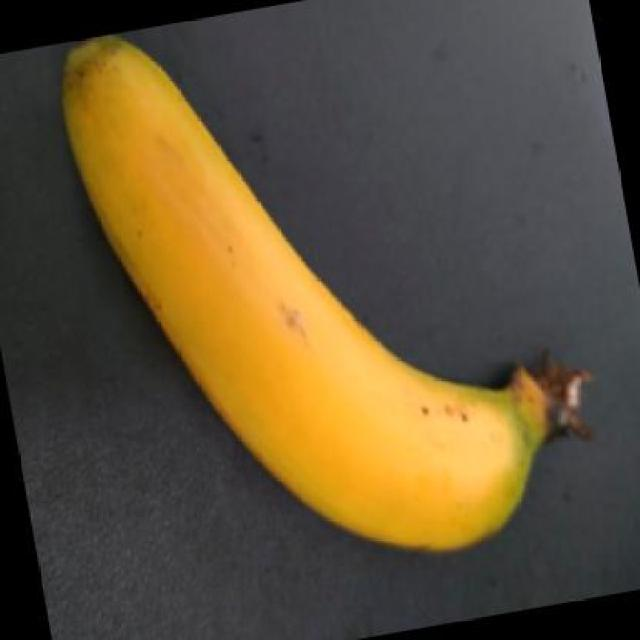Ripe: (47, 14, 594, 567)
